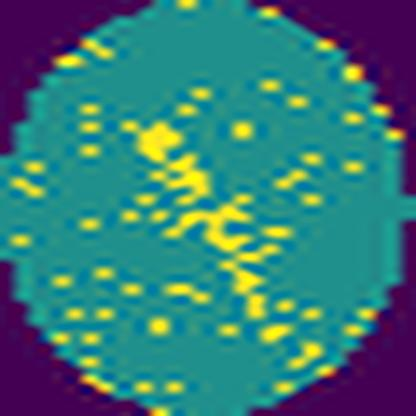Scratch: (115, 110, 293, 326)
